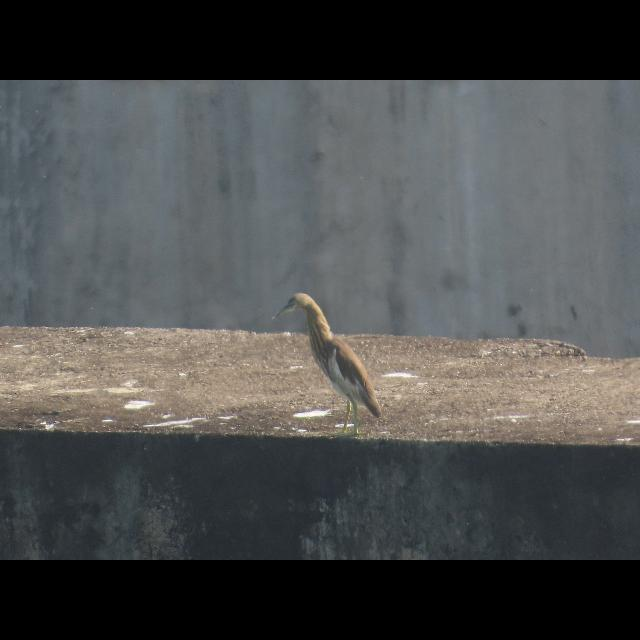heron: (270, 290, 384, 434)
